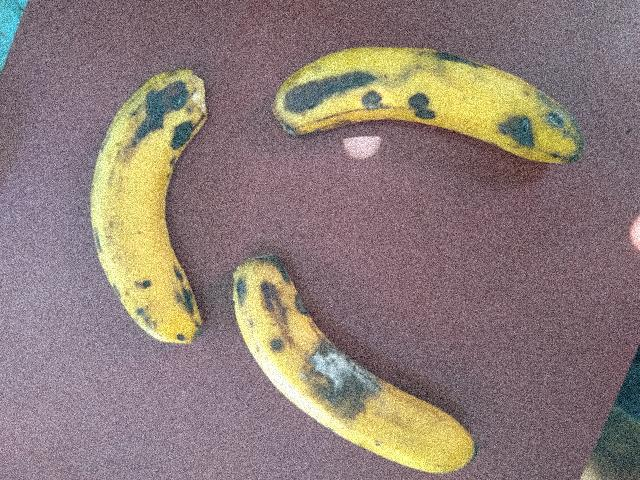overripe: (219, 241, 490, 467), (268, 23, 597, 182), (75, 40, 215, 381)
rotten: (286, 312, 380, 426)
